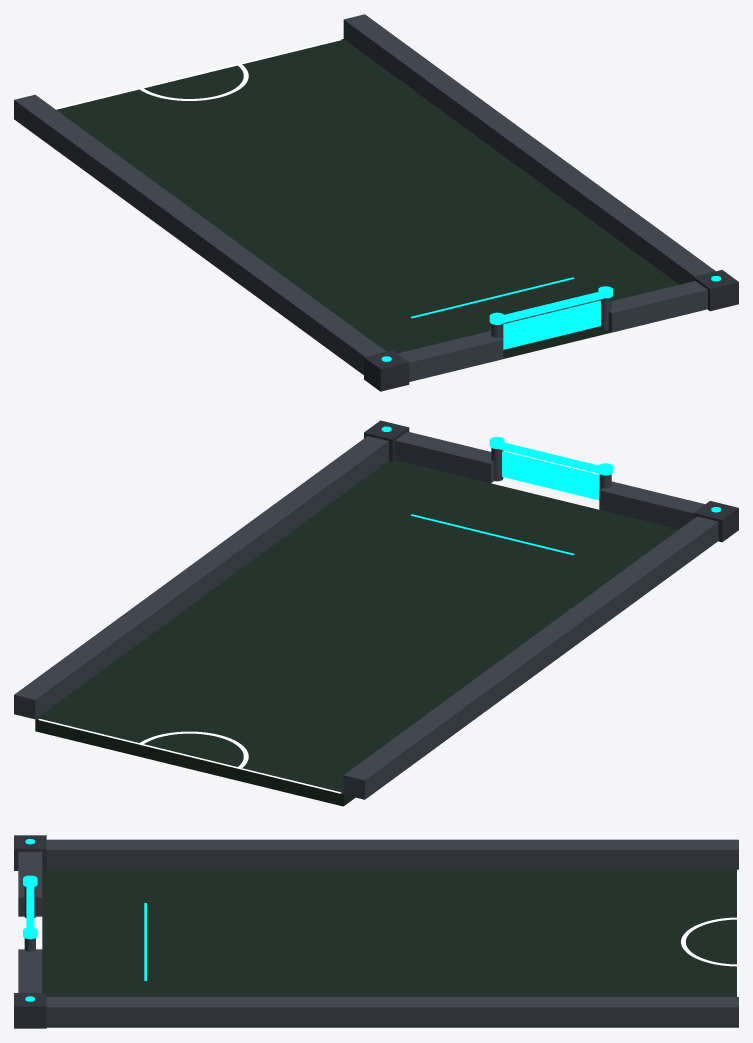
File: mesa_cyber_soccer_half_p1.glb
The picture shows the model from 3 angles, top to bottom: view 1: azimuth 30°, elevation 25°; view 2: azimuth 150°, elevation 25°; view 3: azimuth 270°, elevation 25°; orthographic projection. The views are drawn at different scales.
Parts seen in each view (by area): view 1: SoccerHalfP1_Surface, SoccerHalfP1_RailL, SoccerHalfP1_RailR, Cube.004, Cube.002, Cube.009, Cube.006, Cube.007, Cube.008, SoccerHalfP1_TopEdgeLaser; view 2: SoccerHalfP1_Surface, SoccerHalfP1_RailL, SoccerHalfP1_RailR, Cube.004, Cube.002, Cube.009, Cube.006, Cube.008, Cube.007, SoccerHalfP1_TopEdgeLaser; view 3: SoccerHalfP1_Surface, SoccerHalfP1_RailL, SoccerHalfP1_RailR, Cube.002, Cube.007, Cube.004, Cube.006, SoccerHalfP1_CenterArcOuter, Cube.008.
Part boxes in pixels (x1,y1,x2,y2): SoccerHalfP1_Surface: (56,39,678,358); SoccerHalfP1_RailL: (14,94,385,374); SoccerHalfP1_RailR: (343,14,715,284); Cube.004: (608,281,707,332); Cube.002: (397,331,503,381); Cube.009: (503,300,600,349); Cube.006: (364,350,409,391); Cube.007: (693,270,738,311); Cube.008: (504,292,603,322); SoccerHalfP1_TopEdgeLaser: (55,39,341,109); SoccerHalfP1_Surface: (35,460,678,806); SoccerHalfP1_RailL: (343,516,718,799); SoccerHalfP1_RailR: (14,436,388,719); Cube.004: (395,431,494,483); Cube.002: (599,481,704,529); Cube.009: (502,451,599,500); Cube.006: (693,501,738,542); Cube.008: (499,442,598,473); Cube.007: (364,420,409,461); SoccerHalfP1_TopEdgeLaser: (38,718,341,793); SoccerHalfP1_Surface: (42,869,738,1027); SoccerHalfP1_RailL: (46,839,738,868); SoccerHalfP1_RailR: (46,997,738,1026); Cube.002: (18,851,42,916); Cube.007: (14,993,46,1028); Cube.004: (18,949,42,992); Cube.006: (14,835,46,870); SoccerHalfP1_CenterArcOuter: (681,917,736,966); Cube.008: (26,884,34,927).
Size of the model in its own units: 1.26 by 0.17 by 2.25.
